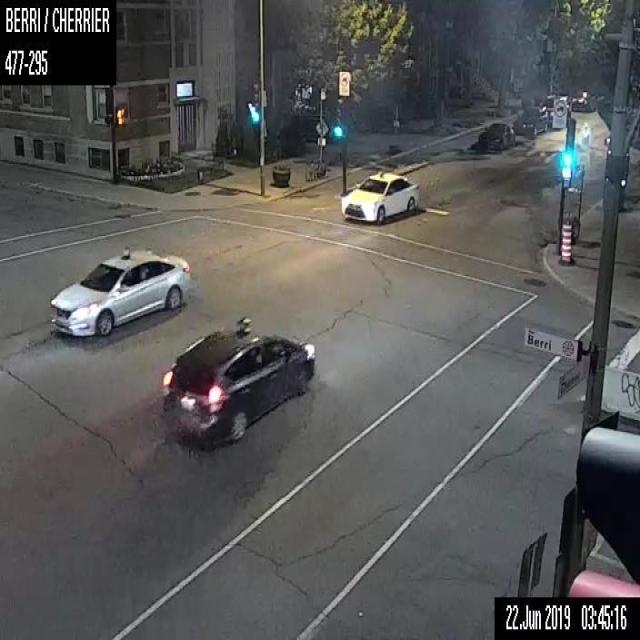construction: (562, 222, 570, 261)
vehicle: (162, 313, 316, 451), (48, 248, 190, 336), (340, 170, 419, 224), (478, 122, 514, 150), (517, 105, 548, 136), (544, 94, 570, 125), (571, 90, 595, 110)
